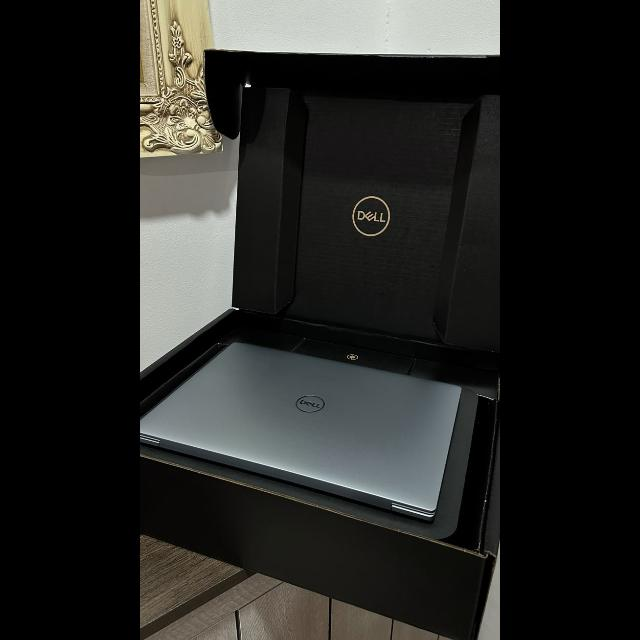laptop: (140, 337, 473, 523)
